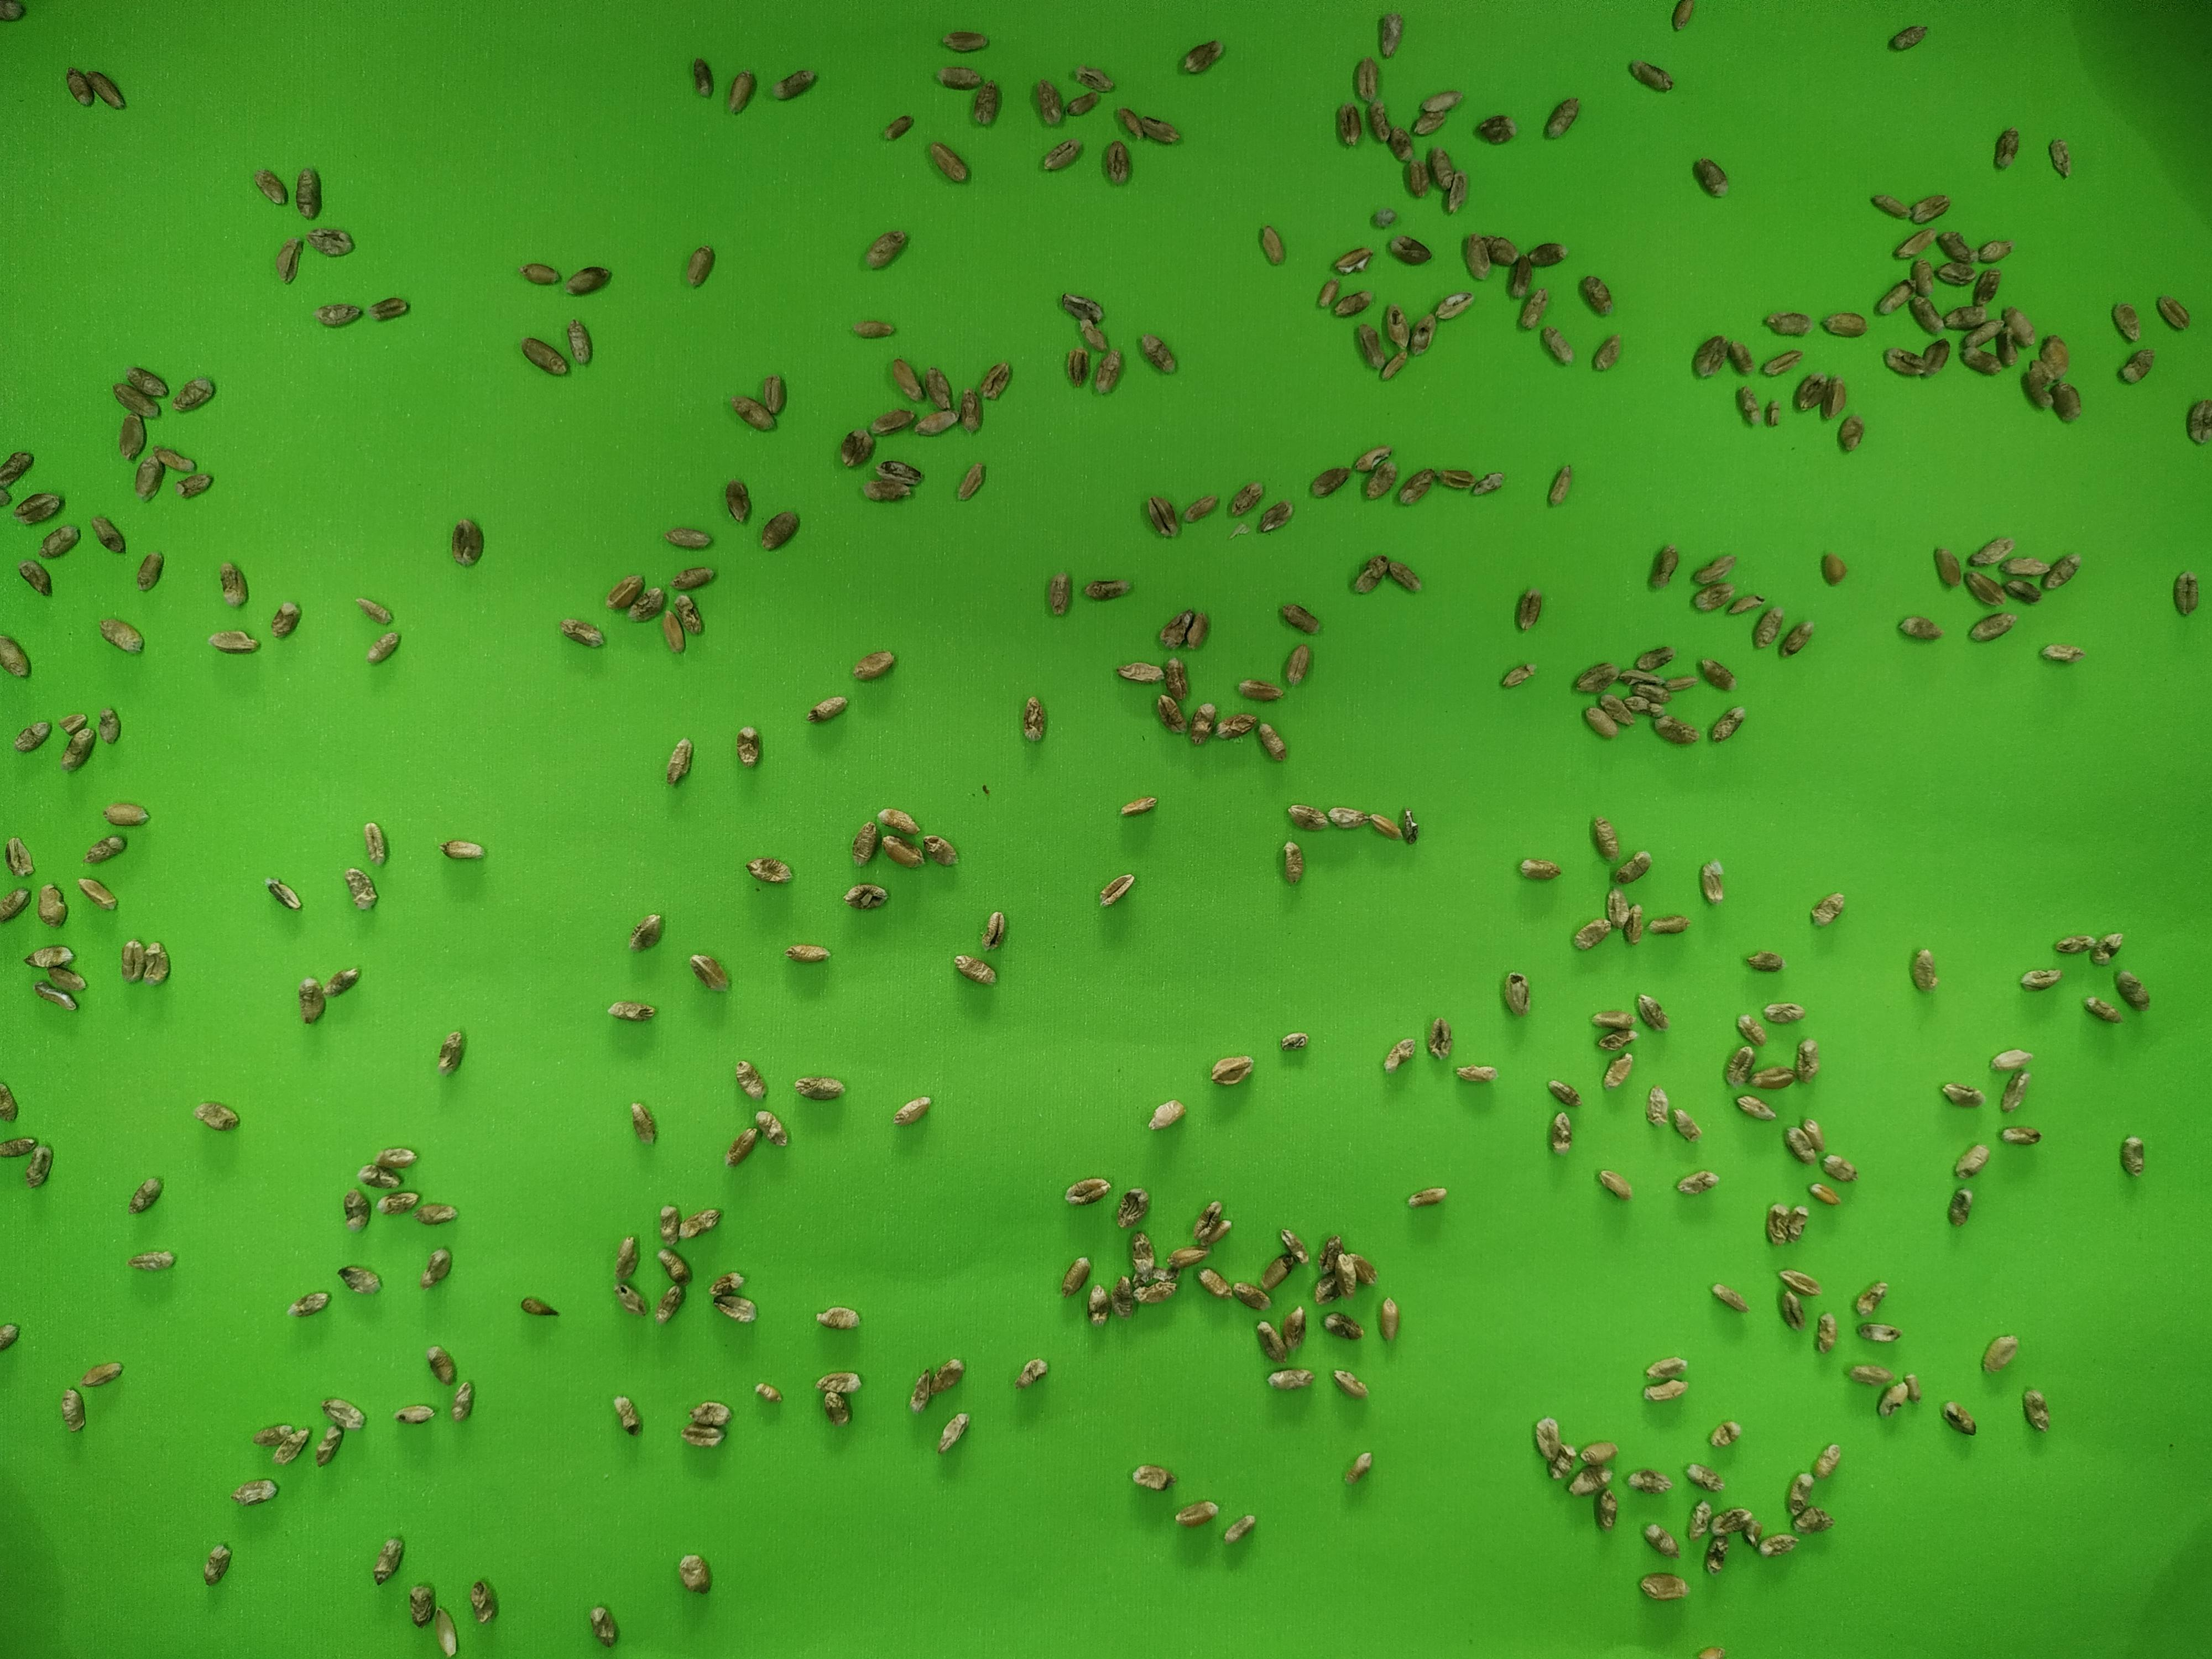danado: (924, 139, 970, 187), (1141, 489, 1180, 544), (968, 71, 1003, 131), (516, 336, 573, 372), (1153, 687, 1193, 738), (289, 166, 327, 221), (1579, 696, 1620, 745), (1186, 692, 1220, 750), (1042, 565, 1076, 622), (1099, 133, 1131, 194), (31, 879, 70, 930), (1892, 609, 1945, 646), (837, 425, 878, 473), (863, 225, 907, 268), (340, 862, 377, 915), (730, 390, 775, 432), (1155, 609, 1194, 658), (876, 832, 926, 870), (676, 1547, 712, 1599), (172, 373, 220, 413), (915, 367, 957, 411), (1250, 721, 1292, 765), (931, 1411, 973, 1457), (2050, 374, 2085, 427), (404, 1577, 439, 1630), (1635, 1568, 1685, 1605), (29, 979, 79, 1016), (465, 1577, 500, 1629), (1964, 609, 2018, 643), (760, 506, 802, 551), (1280, 639, 1317, 690), (1694, 857, 1729, 910), (1208, 1052, 1258, 1089), (1819, 307, 1870, 343), (1596, 1048, 1637, 1092), (611, 1230, 643, 1286), (1474, 109, 1521, 148), (1884, 343, 1932, 382), (249, 164, 292, 206), (1639, 1519, 1682, 1561), (272, 1424, 313, 1468), (2109, 971, 2153, 1011), (1806, 1309, 1846, 1354), (1980, 1330, 2020, 1375), (98, 614, 143, 654), (98, 797, 153, 831), (1332, 97, 1364, 153), (1516, 285, 1550, 338), (2017, 1382, 2051, 1435), (1032, 77, 1066, 130), (1156, 651, 1192, 701), (1136, 332, 1180, 373), (1125, 1460, 1177, 1495), (1233, 673, 1285, 707), (1626, 58, 1677, 93), (1814, 1150, 1863, 1186), (1511, 582, 1546, 633), (1784, 1119, 1822, 1165), (623, 1099, 659, 1148), (771, 65, 818, 103), (83, 71, 127, 111), (133, 453, 168, 505), (1564, 1464, 1614, 1500), (84, 709, 130, 747), (37, 522, 84, 560), (1500, 968, 1533, 1020), (1091, 346, 1126, 395), (1691, 335, 1731, 378), (1017, 691, 1049, 745), (690, 951, 729, 995), (406, 1198, 460, 1231), (1588, 815, 1624, 863), (1439, 173, 1476, 219), (1707, 704, 1748, 746), (76, 871, 117, 913), (1360, 458, 1401, 500), (420, 1242, 453, 1293), (1908, 945, 1942, 995), (229, 1474, 280, 1508), (435, 837, 491, 867), (116, 938, 152, 986), (719, 472, 751, 526), (850, 646, 898, 682), (565, 314, 593, 373), (682, 243, 719, 289), (629, 909, 666, 954), (1985, 1044, 2037, 1077), (260, 877, 306, 913), (656, 1245, 695, 1288), (782, 937, 833, 971), (1354, 325, 1388, 374), (1511, 852, 1564, 884), (2037, 332, 2072, 380), (1648, 716, 1703, 746), (887, 352, 921, 401), (80, 1355, 129, 1389), (1692, 552, 1738, 589), (319, 1397, 369, 1431), (372, 1533, 406, 1582), (815, 1301, 863, 1335), (1326, 1365, 1370, 1404), (358, 815, 389, 869), (58, 1383, 88, 1437), (1589, 1488, 1624, 1535), (891, 1092, 936, 1129), (1061, 289, 1108, 324), (607, 569, 644, 614), (849, 818, 880, 870), (1788, 1501, 1834, 1538), (15, 492, 60, 528), (920, 831, 961, 872), (2108, 297, 2141, 347), (1790, 373, 1833, 411), (1039, 136, 1086, 171), (309, 224, 353, 261), (216, 560, 248, 612), (2115, 348, 2159, 385), (1180, 606, 1213, 655), (1680, 1462, 1725, 1498), (1708, 1279, 1753, 1315), (1350, 555, 1389, 596), (1731, 1008, 1770, 1050), (1810, 1445, 1852, 1484), (14, 717, 53, 759), (1259, 1252, 1297, 1295), (1577, 273, 1615, 316), (112, 380, 158, 416), (62, 727, 95, 777), (2041, 551, 2084, 588), (13, 558, 56, 596), (1277, 598, 1321, 636), (1691, 155, 1728, 199), (1385, 122, 1420, 168), (1544, 1106, 1574, 1160), (1917, 335, 1953, 379), (936, 25, 989, 55), (1730, 1092, 1779, 1125), (2038, 636, 2085, 670), (1352, 54, 1383, 106), (1227, 477, 1269, 516), (1969, 534, 2014, 569), (1687, 580, 1735, 614), (2021, 369, 2059, 411), (447, 1376, 478, 1427), (661, 521, 712, 552), (1544, 98, 1582, 140), (1110, 657, 1164, 687), (0, 632, 30, 686), (731, 1058, 766, 1104), (1963, 573, 2009, 608), (1424, 146, 1461, 189), (1180, 489, 1223, 526), (1593, 1166, 1637, 1202), (1171, 1498, 1223, 1529), (1991, 124, 2021, 178), (1060, 1252, 1092, 1301), (1750, 601, 1783, 648), (976, 357, 1010, 404), (2000, 306, 2039, 346), (953, 951, 998, 987), (1907, 295, 1947, 336), (1146, 1098, 1192, 1133), (1778, 1265, 1823, 1300), (1322, 1308, 1364, 1345), (555, 616, 606, 647), (1375, 8, 1406, 59), (341, 1187, 373, 1235), (1932, 543, 1964, 591), (429, 1609, 461, 1659), (126, 1246, 179, 1276), (1933, 257, 1980, 290), (2, 836, 35, 883), (1306, 465, 1353, 499), (1969, 262, 2004, 306), (952, 388, 988, 432), (1646, 545, 1682, 589), (337, 1262, 382, 1297), (1319, 279, 1357, 320), (733, 719, 762, 773), (860, 479, 919, 505), (566, 263, 612, 297), (1522, 237, 1571, 268), (586, 1604, 622, 1647), (423, 1344, 459, 1387), (1061, 340, 1091, 390), (1939, 1077, 1983, 1112), (144, 936, 172, 992), (1375, 1294, 1404, 1349), (2017, 962, 2063, 995), (1806, 890, 1846, 928), (1078, 574, 1130, 603), (1484, 234, 1525, 272), (1696, 656, 1738, 693), (1538, 325, 1575, 367), (209, 627, 260, 656), (118, 413, 148, 464), (1570, 915, 1612, 952), (1906, 192, 1953, 225), (1213, 708, 1260, 741), (931, 61, 981, 92), (1731, 387, 1767, 430), (514, 258, 562, 290), (1640, 1375, 1688, 1407), (134, 545, 166, 593), (911, 404, 957, 437), (1194, 1264, 1233, 1302), (23, 943, 74, 973), (1227, 1281, 1278, 1311), (1906, 254, 1940, 299), (1532, 1414, 1566, 1458), (1265, 1362, 1313, 1394), (1841, 1361, 1896, 1389), (1132, 1279, 1186, 1307), (1388, 234, 1433, 268), (1115, 1187, 1150, 1230), (2181, 399, 2211, 449), (1851, 1277, 1890, 1316), (88, 514, 127, 553), (1097, 870, 1136, 908), (875, 805, 921, 837), (24, 1142, 57, 1188), (1834, 411, 1866, 457), (1784, 1470, 1814, 1519), (354, 1161, 404, 1192), (1952, 1142, 1993, 1178), (604, 996, 655, 1025), (1640, 1353, 1691, 1382), (1396, 468, 1437, 504), (435, 1028, 467, 1074), (1997, 1120, 2046, 1151), (795, 1071, 843, 1102), (1960, 317, 2008, 348), (1874, 281, 1919, 314), (313, 300, 363, 330), (955, 460, 988, 504), (1140, 114, 1185, 148), (754, 372, 789, 414), (2005, 550, 2052, 582), (285, 1287, 332, 1318), (750, 1108, 789, 1146), (727, 64, 756, 114), (1764, 308, 1812, 339), (1724, 1044, 1755, 1092), (363, 295, 412, 325), (270, 595, 300, 644), (1623, 1467, 1672, 1496), (1892, 227, 1936, 260), (1494, 661, 1538, 694), (806, 691, 851, 724), (1011, 1357, 1053, 1391), (1332, 243, 1374, 278), (1403, 1182, 1451, 1213), (1280, 802, 1328, 833), (294, 980, 327, 1025), (847, 315, 894, 346), (1166, 1240, 1213, 1271), (1064, 1174, 1111, 1205), (129, 1174, 163, 1217), (1587, 1006, 1640, 1033), (353, 592, 394, 628), (1939, 230, 1979, 266), (931, 1354, 967, 1395), (664, 736, 692, 786), (121, 367, 171, 396), (1545, 461, 1574, 512), (1883, 23, 1931, 54), (1748, 1061, 1796, 1092), (199, 1543, 232, 1587), (1684, 1499, 1715, 1545), (1407, 314, 1438, 360), (676, 1209, 724, 1239), (870, 405, 918, 435), (1947, 1180, 1975, 1231), (612, 1280, 649, 1319), (363, 631, 403, 667), (653, 1201, 686, 1244), (845, 881, 888, 914), (1341, 1448, 1377, 1488), (378, 1187, 423, 1219), (1776, 1291, 1808, 1336), (1404, 152, 1433, 200), (1939, 302, 1993, 328), (1793, 1039, 1824, 1085), (1108, 1273, 1139, 1319), (980, 901, 1005, 957), (1428, 291, 1476, 321), (877, 458, 924, 488), (1818, 547, 1850, 591), (687, 1400, 736, 1428), (1875, 1380, 1912, 1418), (667, 594, 706, 631), (1724, 337, 1757, 380), (1957, 342, 2001, 373), (1865, 191, 1913, 221), (1279, 839, 1308, 887), (273, 231, 299, 285), (368, 1143, 420, 1170), (1995, 1074, 2030, 1115), (454, 520, 485, 565), (1818, 377, 1848, 424), (2077, 998, 2126, 1026), (1426, 1015, 1454, 1065), (744, 857, 791, 886), (718, 1292, 759, 1327), (1117, 790, 1161, 822), (654, 1280, 685, 1326), (1574, 1438, 1620, 1468), (315, 1423, 345, 1469), (629, 585, 666, 622), (907, 1365, 936, 1415), (81, 835, 127, 865), (1707, 1506, 1752, 1537), (1347, 441, 1392, 472), (1749, 1533, 1799, 1560), (1279, 1302, 1307, 1352), (1382, 1035, 1420, 1072), (1223, 1511, 1259, 1550), (1779, 620, 1815, 658), (1573, 662, 1619, 692), (1632, 992, 1667, 1031), (2119, 1131, 2147, 1178), (1644, 1079, 1670, 1131), (1542, 1074, 1582, 1109), (1071, 62, 1115, 92), (2155, 291, 2189, 332), (1128, 1235, 1157, 1282), (194, 1099, 239, 1129), (1254, 226, 1286, 268), (1182, 41, 1223, 74), (1740, 946, 1787, 975), (2172, 568, 2199, 618), (1383, 307, 1413, 351), (1672, 1167, 1721, 1195), (1256, 499, 1297, 532), (1588, 337, 1625, 373), (1706, 1416, 1743, 1452), (820, 1390, 855, 1428), (1385, 558, 1424, 592), (1610, 852, 1652, 883), (1255, 1321, 1287, 1363), (725, 1126, 759, 1165), (1448, 1060, 1499, 1086), (2044, 138, 2074, 182), (1466, 233, 1493, 282), (1366, 99, 1395, 145), (610, 1395, 641, 1436), (671, 565, 717, 594), (1367, 812, 1407, 844), (1317, 1234, 1345, 1280), (688, 53, 715, 102), (1665, 0, 1702, 34), (659, 606, 686, 654), (1507, 258, 1537, 301), (2085, 930, 2119, 968), (1760, 348, 1802, 379), (708, 1268, 748, 1301), (151, 445, 196, 473), (252, 1421, 298, 1449), (0, 448, 30, 490), (1410, 106, 1449, 138), (1672, 1105, 1704, 1145), (1062, 86, 1103, 118), (318, 967, 362, 996), (393, 1400, 437, 1429), (1333, 289, 1376, 319), (1274, 1025, 1317, 1055), (1763, 1201, 1792, 1244), (176, 471, 216, 502), (1599, 692, 1635, 726), (681, 1426, 729, 1452), (1543, 1444, 1577, 1481), (1415, 88, 1462, 114), (815, 1370, 859, 1398), (1606, 883, 1632, 930), (0, 885, 30, 926), (1942, 1399, 1976, 1434), (2053, 933, 2103, 958), (1086, 1282, 1112, 1329), (1192, 1199, 1222, 1239), (1312, 274, 1343, 312), (1760, 1001, 1807, 1026), (1855, 1319, 1901, 1345), (1637, 643, 1678, 672), (1310, 1271, 1342, 1307), (1325, 805, 1369, 832), (1804, 1180, 1845, 1209), (1199, 1217, 1235, 1249), (1642, 912, 1690, 937), (1080, 316, 1111, 353), (47, 968, 89, 995), (1621, 667, 1667, 692), (879, 109, 914, 142), (2004, 576, 2043, 606), (1348, 1251, 1379, 1287), (1366, 202, 1401, 234), (1725, 590, 1766, 618), (1975, 235, 2011, 265), (1117, 105, 1146, 142), (1703, 1535, 1728, 1578), (1437, 464, 1476, 491), (69, 67, 95, 107), (1994, 325, 2017, 369), (1336, 1254, 1358, 1301), (1280, 1233, 1311, 1265), (1624, 695, 1668, 717), (749, 1378, 786, 1405), (1379, 349, 1410, 381), (1473, 469, 1505, 499), (1631, 683, 1675, 705), (1624, 904, 1646, 946), (2, 1136, 38, 1162), (1597, 1031, 1640, 1052), (520, 1295, 561, 1317), (1133, 1267, 1178, 1287), (1402, 807, 1423, 849), (1788, 1204, 1809, 1245), (1663, 673, 1699, 695), (1903, 1369, 1923, 1406), (60, 708, 86, 734), (1697, 1641, 1724, 1659), (1768, 398, 1783, 428)
